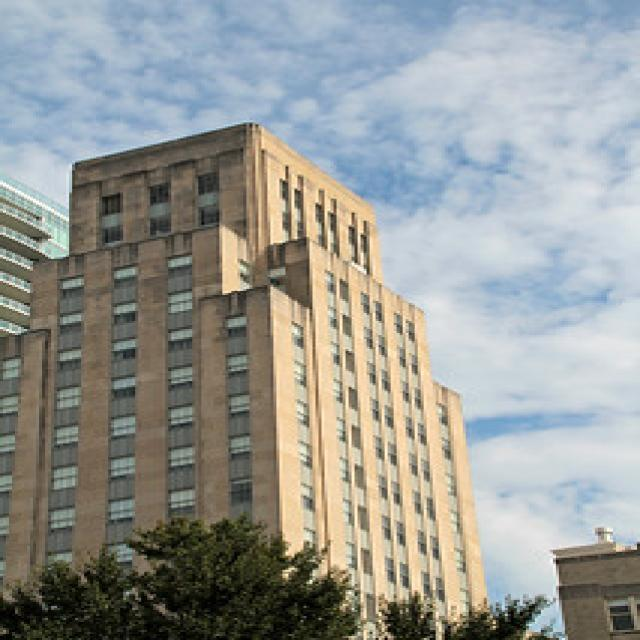building: (4, 114, 510, 640)
